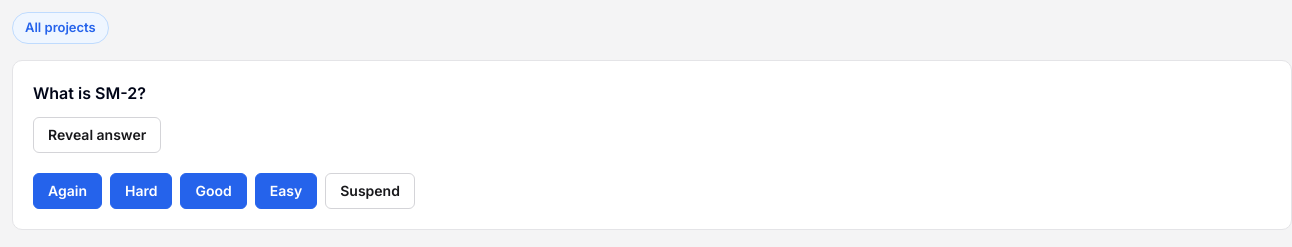
ReviewRunner › suspends the active item and reloads
The image size is (1292, 247).
Check: the heading "What is SM-2?" is shown, box [33, 83, 146, 103]
Click the button "Suspend" at {"x": 370, "y": 191}, box [325, 173, 415, 209]
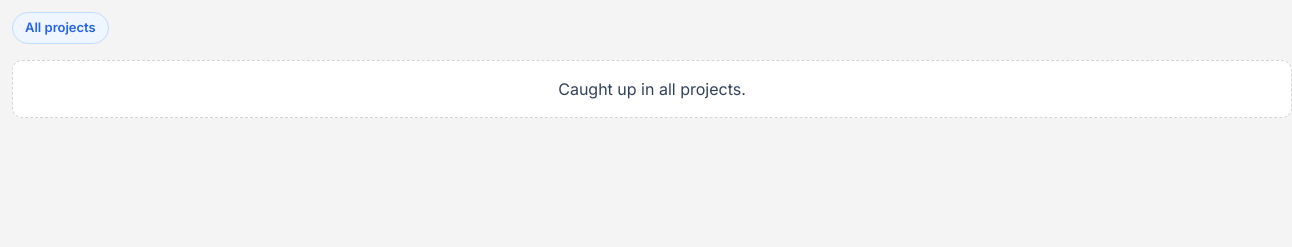
Check: the text "Caught up in all projects." is shown, box [12, 60, 1291, 118]
